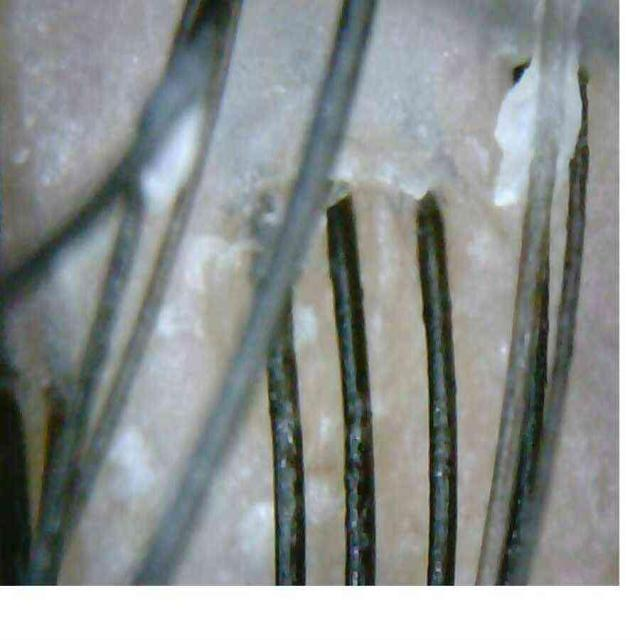d: (492, 59, 539, 207), (141, 119, 199, 212), (556, 64, 581, 186)
